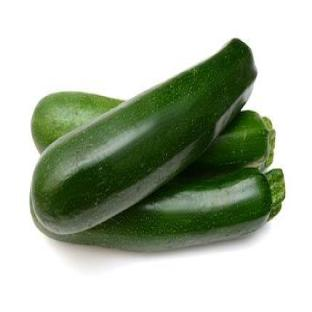Zucchini: (32, 40, 256, 233), (32, 168, 285, 250), (32, 93, 122, 152), (32, 93, 122, 151)
